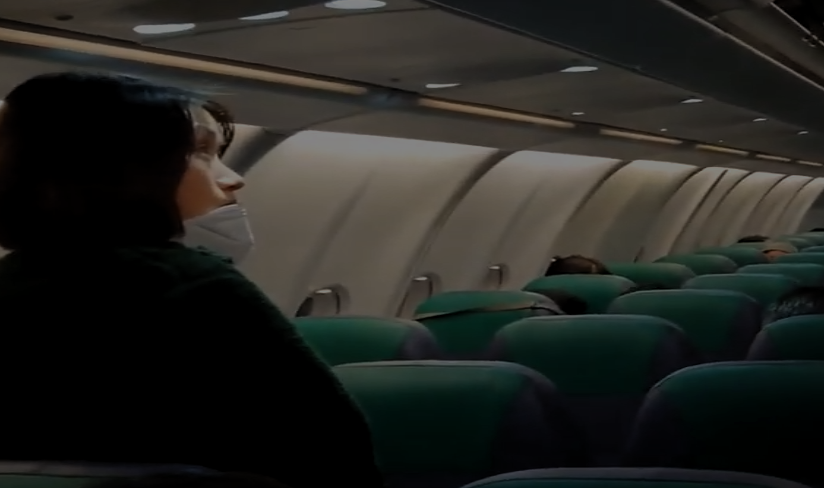mask_weared_incorrect: (81, 68, 259, 265)
